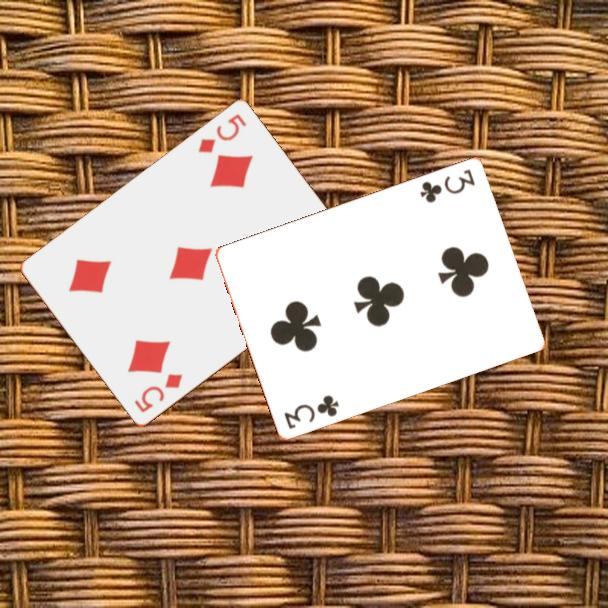c03: (416, 165, 478, 206), (281, 391, 342, 432)
d05: (194, 111, 250, 157), (131, 370, 185, 416)
